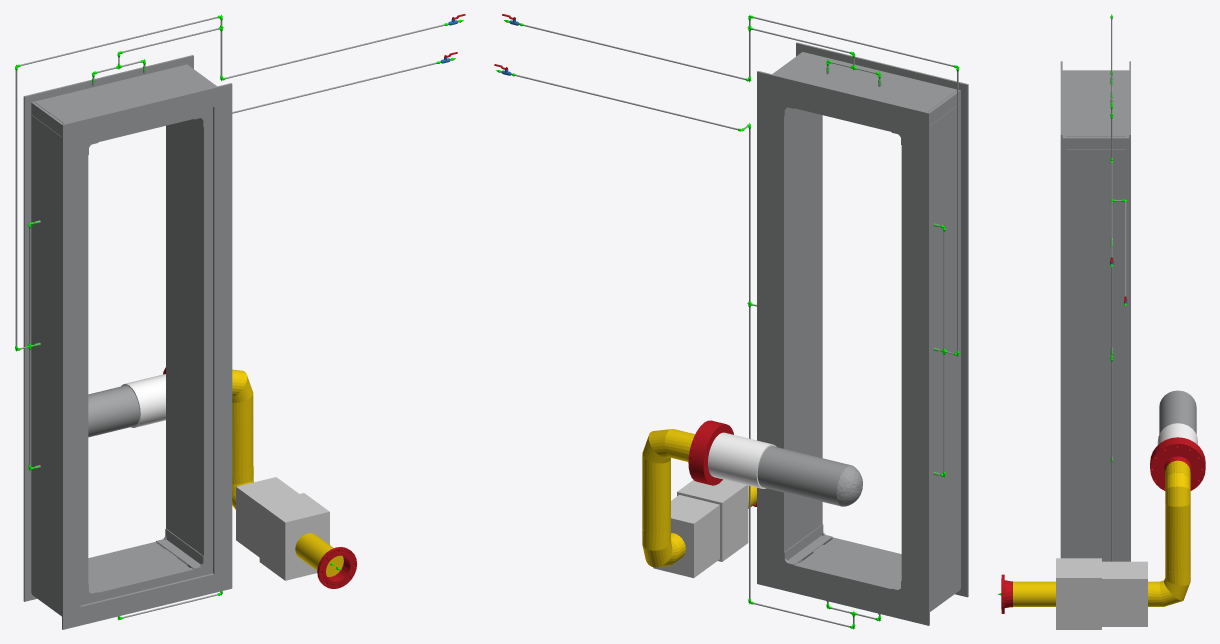
Rendered from Phase45 (2).fbx.
3 views of the same model, side by side, from view 1: azimuth 30°, elevation 25°; view 2: azimuth 150°, elevation 25°; view 3: azimuth 270°, elevation 25° (orthographic). The views are drawn at different scales.
Parts seen in each view (by area): view 1: RAL7004 (×5), Стальной лист (ГОСТ 19903-74) Балки:Лист 6x575:257260, Стальной лист (ГОСТ 19903-74) Балки:Лист 16х160:259253, Стальной лист (ГОСТ 19903-74) Балки:Лист 16х160:259255, Компенсатор:48.55.08.01.002 Патрубок:1306371, Стальной лист (ГОСТ 19903-74) Балки:Лист 16х160:257769, Стальной лист (ГОСТ 19903-74) Балки:Лист 18х80:261635, Стальной лист (ГОСТ 19903-74) Балки:Лист 18х80:261633, Стальной лист (ГОСТ 19903-74) Балки:Лист 6x575:258209, Стальной лист (ГОСТ 19903-74) Балки:Лист 16х160:259259, Стальной лист (ГОСТ 19903-74) Балки:Лист 16х160:259257, 48.55.08.02.002 Обечайка:48.55.08.01.002 Патрубок:1317171 (+8 smaller); view 2: RAL7004 (×5), Стальной лист (ГОСТ 19903-74) Балки:Лист 6x575:257260, Стальной лист (ГОСТ 19903-74) Балки:Лист 16х160:257769, Стальной лист (ГОСТ 19903-74) Балки:Лист 16х160:257461, Компенсатор:48.55.08.01.002 Патрубок:1306371, Стальной лист (ГОСТ 19903-74) Балки:Лист 18х80:258584, Стальной лист (ГОСТ 19903-74) Балки:Лист 16х160:259255, Стальной лист (ГОСТ 19903-74) Балки:Лист 18х80:258884, 48.55.08.02.002 Обечайка:48.55.08.01.002 Патрубок:1317171, Стальной лист (ГОСТ 19903-74) Балки:Лист 6x575:258209, Стальной лист (ГОСТ 19903-74) Балки:Лист 16х160:257784, Стальной лист (ГОСТ 19903-74) Балки:Лист 16х160:258027 (+8 smaller); view 3: RAL7004 (×4), Компенсатор:48.55.08.01.002 Патрубок:1306371, Профили_гнутые_замкнутые_сварные_прямоугольные_ГОСТ 30245-20 (×5), 48.55.08.01.002 Патрубок:48.55.08.01.002-01 Патрубок:1302724, 48.55.08.00.002 Фланец1:Фланец 2:1361312, Сталь нержавеющая (×4), Стальной лист (ГОСТ 19903-74) Балки:Лист 16х160:259253, 48.55.08.02.002 Обечайка:48.55.08.01.002 Патрубок:1317171, 48.55.08.01.001 Патрубок:48.55.08.01.002 Патрубок:1304304, Стальной лист (ГОСТ 19903-74) Балки:Лист 16х160:257461, Типы трубопроводов:Труба:268889, Типы трубопроводов:CPS_Бесшовная труба из нс:1458562 (+2 smaller).
Part boxes in pixels (x1,y1,x2,y2): RAL7004 (×5): (32,65,215,616); Стальной лист (ГОСТ 19903-74) Балки:Лист 6x575:257260: (166,119,203,555); Стальной лист (ГОСТ 19903-74) Балки:Лист 16х160:259253: (213,83,232,592); Стальной лист (ГОСТ 19903-74) Балки:Лист 16х160:259255: (62,120,80,629); Компенсатор:48.55.08.01.002 Патрубок:1306371: (236,477,329,580); Стальной лист (ГОСТ 19903-74) Балки:Лист 16х160:257769: (23,92,42,601); Стальной лист (ГОСТ 19903-74) Балки:Лист 18х80:261635: (203,127,212,553); Стальной лист (ГОСТ 19903-74) Балки:Лист 18х80:261633: (80,158,88,583); Стальной лист (ГОСТ 19903-74) Балки:Лист 6x575:258209: (88,542,191,592); Стальной лист (ГОСТ 19903-74) Балки:Лист 16х160:259259: (80,573,214,625); Стальной лист (ГОСТ 19903-74) Балки:Лист 16х160:259257: (80,87,214,139); 48.55.08.02.002 Обечайка:48.55.08.01.002 Патрубок:1317171: (88,385,139,437); RAL7004 (×5): (774,53,960,611); Стальной лист (ГОСТ 19903-74) Балки:Лист 6x575:257260: (784,108,821,550); Стальной лист (ГОСТ 19903-74) Балки:Лист 16х160:257769: (910,108,929,625); Стальной лист (ГОСТ 19903-74) Балки:Лист 16х160:257461: (757,71,775,588); Компенсатор:48.55.08.01.002 Патрубок:1306371: (653,479,748,578); Стальной лист (ГОСТ 19903-74) Балки:Лист 18х80:258584: (901,148,910,580); Стальной лист (ГОСТ 19903-74) Балки:Лист 16х160:259255: (949,80,968,597); Стальной лист (ГОСТ 19903-74) Балки:Лист 18х80:258884: (775,117,785,549); 48.55.08.02.002 Обечайка:48.55.08.01.002 Патрубок:1317171: (757,446,851,506); Стальной лист (ГОСТ 19903-74) Балки:Лист 6x575:258209: (797,538,901,587); Стальной лист (ГОСТ 19903-74) Балки:Лист 16х160:257784: (775,75,911,127); Стальной лист (ГОСТ 19903-74) Балки:Лист 16х160:258027: (775,569,910,621); RAL7004 (×4): (1065,70,1126,561); Компенсатор:48.55.08.01.002 Патрубок:1306371: (1056,558,1147,629); Профили_гнутые_замкнутые_сварные_прямоугольные_ГОСТ 30245-20 (×5): (1062,70,1129,561); 48.55.08.01.002 Патрубок:48.55.08.01.002-01 Патрубок:1302724: (1165,504,1190,572); 48.55.08.00.002 Фланец1:Фланец 2:1361312: (1150,442,1205,490); Сталь нержавеющая (×4): (1148,472,1190,606); Стальной лист (ГОСТ 19903-74) Балки:Лист 16х160:259253: (1060,127,1062,558); 48.55.08.02.002 Обечайка:48.55.08.01.002 Патрубок:1317171: (1159,390,1196,434); 48.55.08.01.001 Патрубок:48.55.08.01.002 Патрубок:1304304: (1013,581,1055,606); Стальной лист (ГОСТ 19903-74) Балки:Лист 16х160:257461: (1129,127,1130,561); Типы трубопроводов:Труба:268889: (1157,423,1197,444); Типы трубопроводов:CPS_Бесшовная труба из нс:1458562: (1111,361,1112,561).
Bounding box in the file's own units: 4048 × 1813 × 4988.
